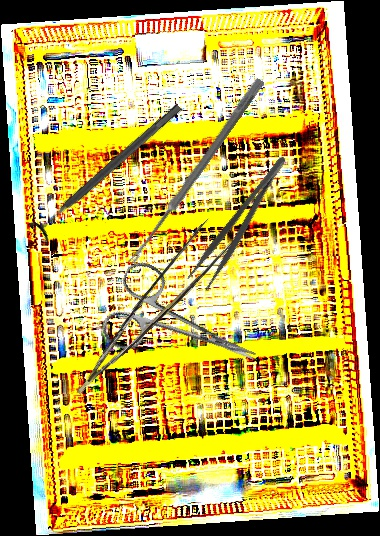Dressing Forceps: (184, 152, 301, 294)
Fixation Ring: (27, 95, 190, 246)
Iris Scissors: (96, 256, 272, 401)
Surgical Spoon: (127, 76, 265, 267)
Tissue Forceps: (51, 212, 243, 396)
